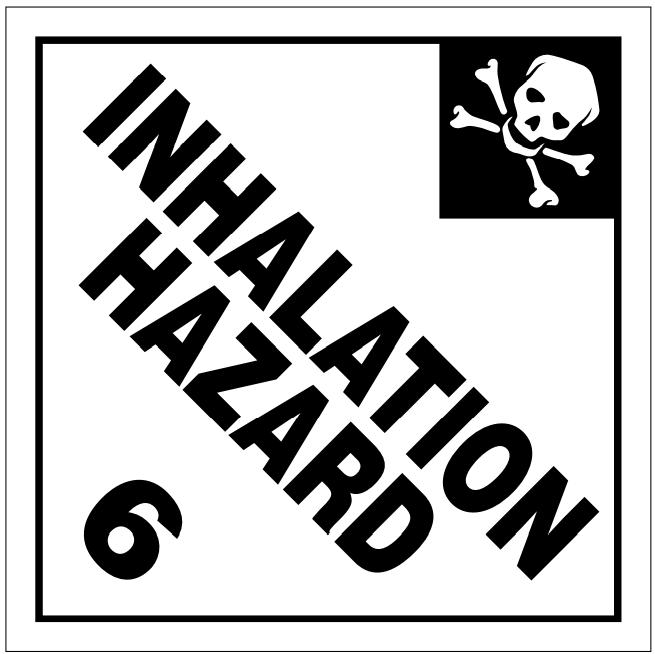poison: (1, 1, 655, 654)
